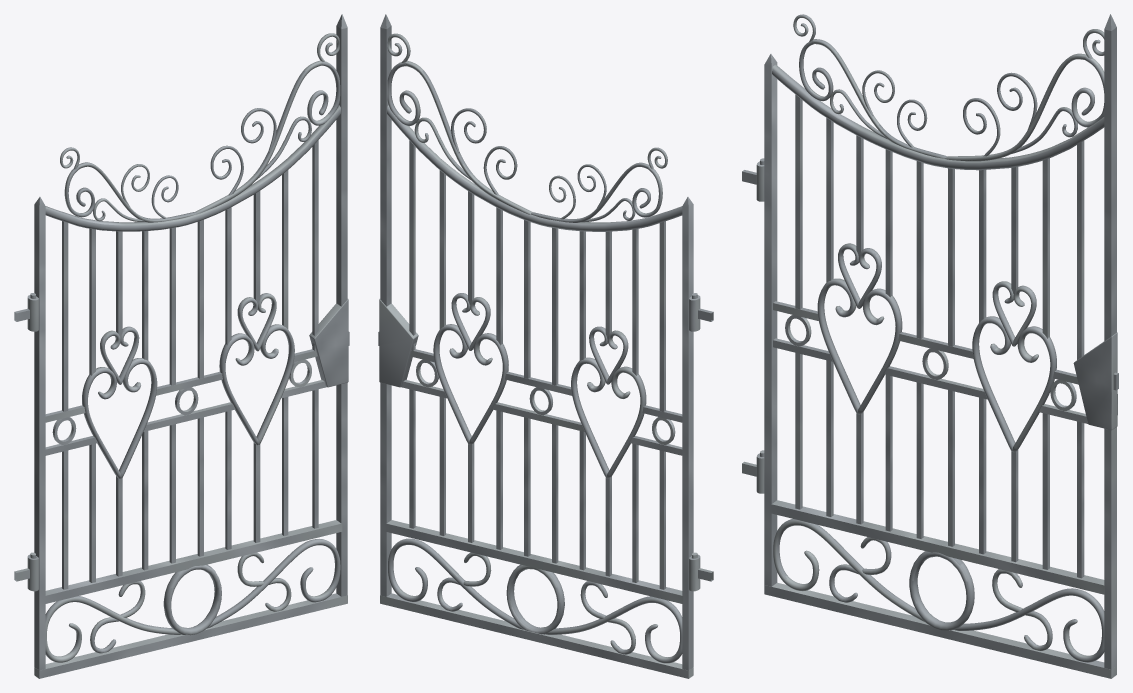
File: puerta1_n.obj
3 views of the same model, side by side, from view 1: azimuth 30°, elevation 25°; view 2: azimuth 150°, elevation 25°; view 3: azimuth 330°, elevation 25° (orthographic). The views are drawn at different scales.
Parts seen in each view (by area): view 1: puerta1_n; view 2: puerta1_n; view 3: puerta1_n.
Boxes of the visible parts, <box> form: puerta1_n: <box>14,14,349,678</box>; puerta1_n: <box>378,14,713,678</box>; puerta1_n: <box>742,14,1118,678</box>.
Size of the model in its own units: 10.06 by 17 by 0.3658.
